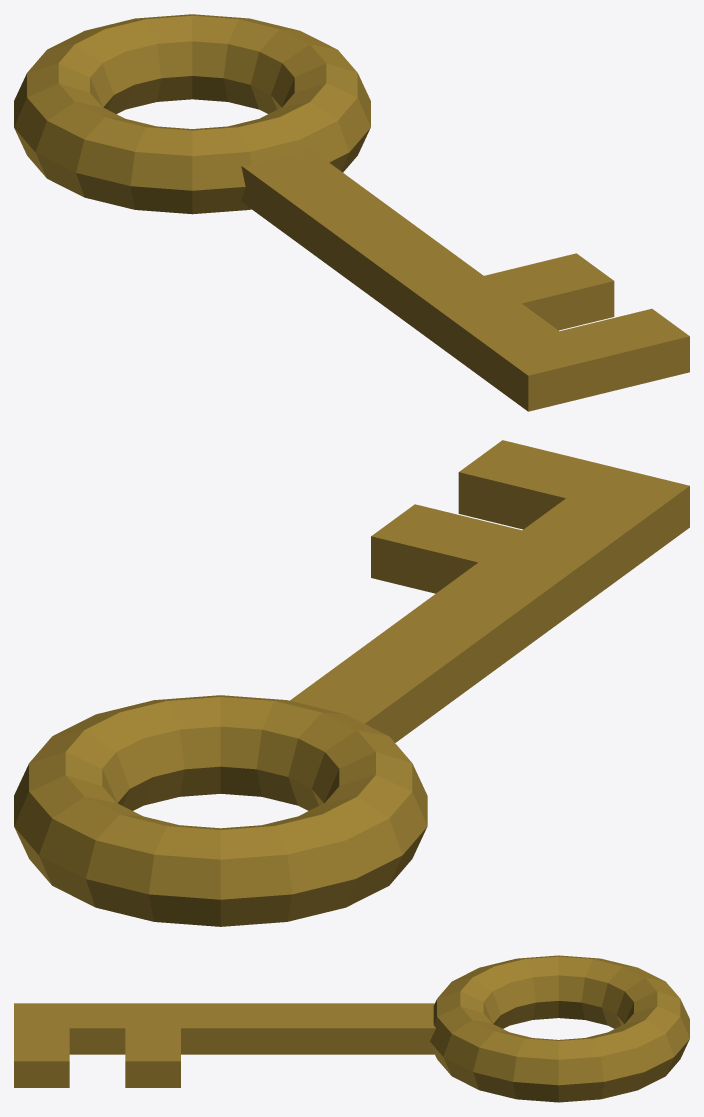
The model's file is door_key.fbx.
3 renders of one model, top to bottom at view 1: azimuth 30°, elevation 25°; view 2: azimuth 150°, elevation 25°; view 3: azimuth 270°, elevation 25°, orthographic. The views are drawn at different scales.
Visible parts, largest first — view 1: Cube; view 2: Cube; view 3: Cube.
Boxes of the visible parts, x1,y1,x2,y2 form: Cube: (14, 14, 689, 411); Cube: (14, 440, 689, 926); Cube: (14, 955, 689, 1102).
Size of the model in its own units: 8 by 2 by 20.29.
